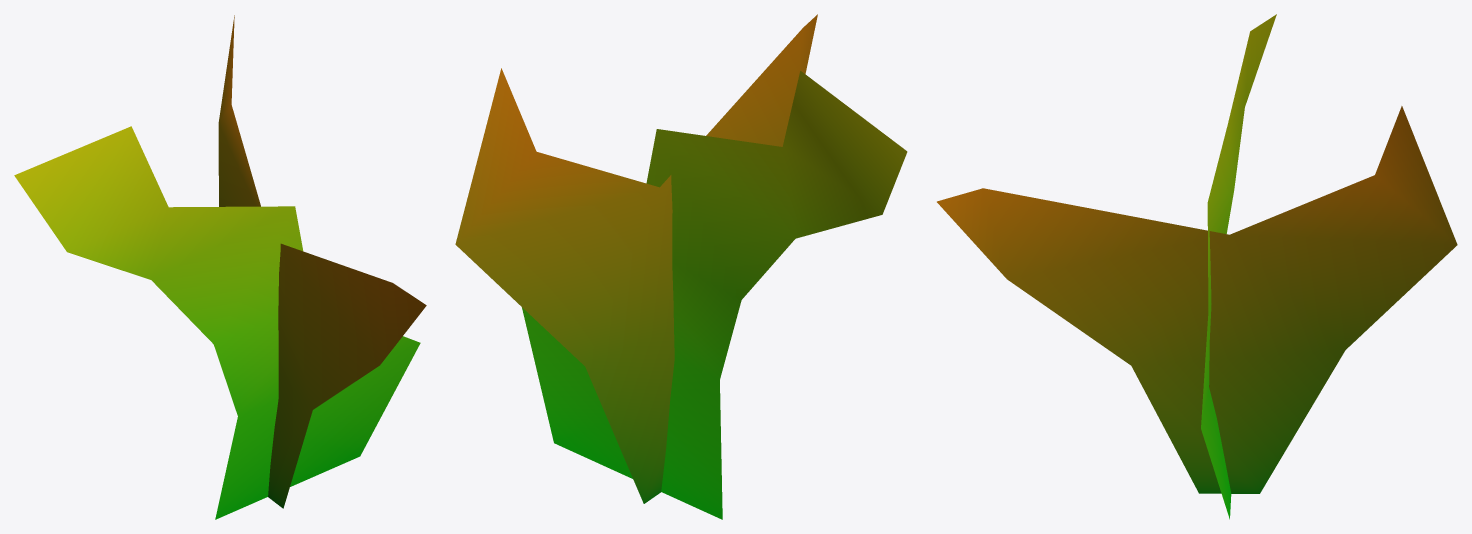
File: Var11Hi49.fbx
3 views of the same model, side by side, from view 1: azimuth 30°, elevation 25°; view 2: azimuth 150°, elevation 25°; view 3: azimuth 270°, elevation 25° (orthographic). The views are drawn at different scales.
Parts seen in each view (by area): view 1: bend1; view 2: bend1; view 3: bend1.
Boxes of the visible parts, box(x1,y1,x2,y2) form: bend1: box(14, 15, 426, 519); bend1: box(455, 14, 907, 519); bend1: box(937, 14, 1457, 519).
Bounding box in the file's own units: 1.34 × 1.46 × 1.62.
